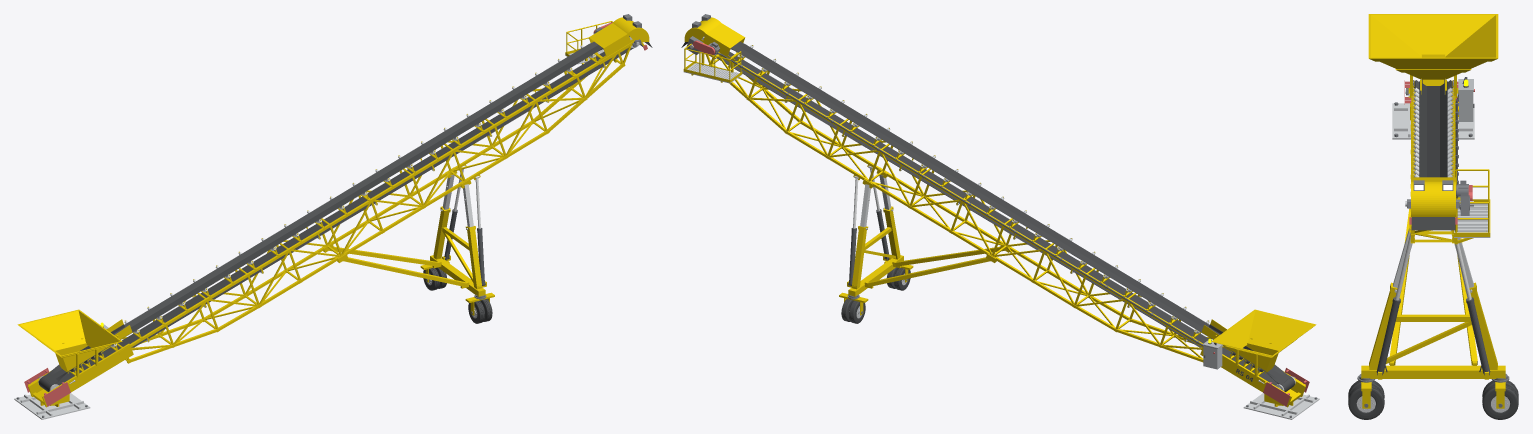
The model's file is Radial_Stacking_Conveyor.glb.
3 views of the same model, side by side, from view 1: azimuth 30°, elevation 25°; view 2: azimuth 150°, elevation 25°; view 3: azimuth 270°, elevation 25° (orthographic). The views are drawn at different scales.
Parts seen in each view (by area): view 1: pivot_pedestal, tail_pulley_wrap, ground_pan; view 2: pivot_pedestal, tail_pulley_wrap, ground_pan, fleet_number, tail_guards, ground_anchors; view 3: pivot_pedestal, tail_pulley_wrap, ground_pan, fleet_number, ground_anchors, control_cabinet, lift_ram_rods, tail_guards.
Part boxes in pixels (box(x1,y1,x2,y2)): pivot_pedestal: box(17, 17, 649, 407); tail_pulley_wrap: box(39, 36, 652, 391); ground_pan: box(14, 37, 638, 419); pivot_pedestal: box(683, 17, 1316, 407); tail_pulley_wrap: box(681, 36, 1294, 391); ground_pan: box(683, 37, 1319, 419); fleet_number: box(716, 52, 1252, 381); tail_guards: box(692, 40, 1309, 406); ground_anchors: box(686, 14, 1317, 417); pivot_pedestal: box(1361, 14, 1505, 408); tail_pulley_wrap: box(1348, 79, 1518, 419); ground_pan: box(1356, 87, 1510, 412); fleet_number: box(1376, 77, 1490, 375); ground_anchors: box(1357, 88, 1509, 407); control_cabinet: box(1458, 79, 1473, 121); lift_ram_rods: box(1395, 229, 1471, 300); tail_guards: box(1404, 80, 1474, 224).
Size of the model in its own units: 615 by 231 by 99.02.
